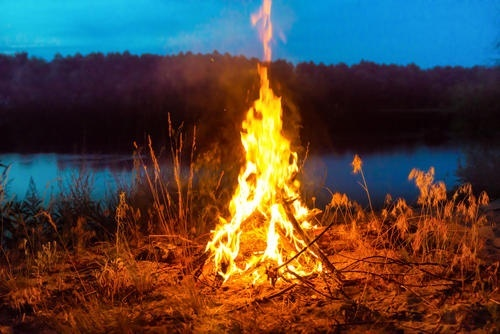fire: (210, 30, 316, 282)
